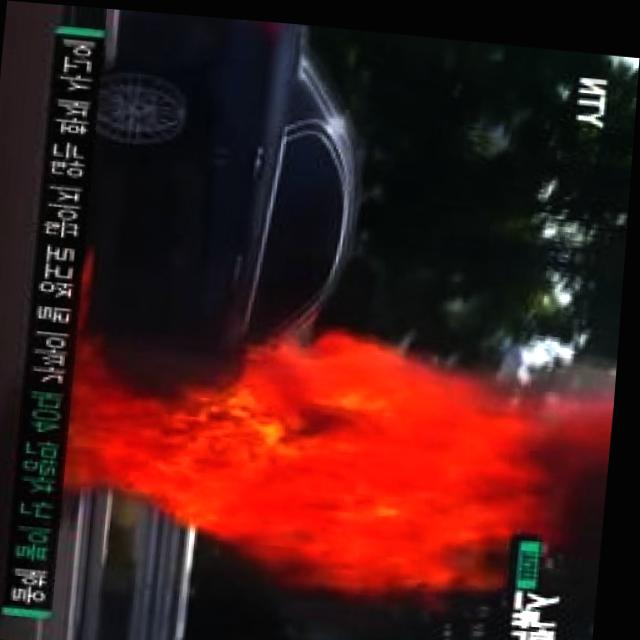Fire: (55, 225, 536, 604), (520, 345, 618, 529)
